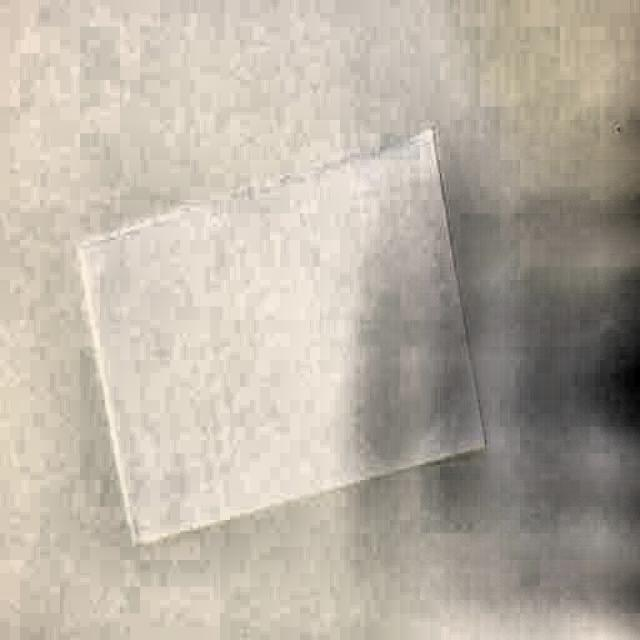paper: (77, 134, 493, 548)
